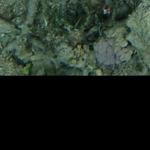dead: (1, 1, 148, 75)
